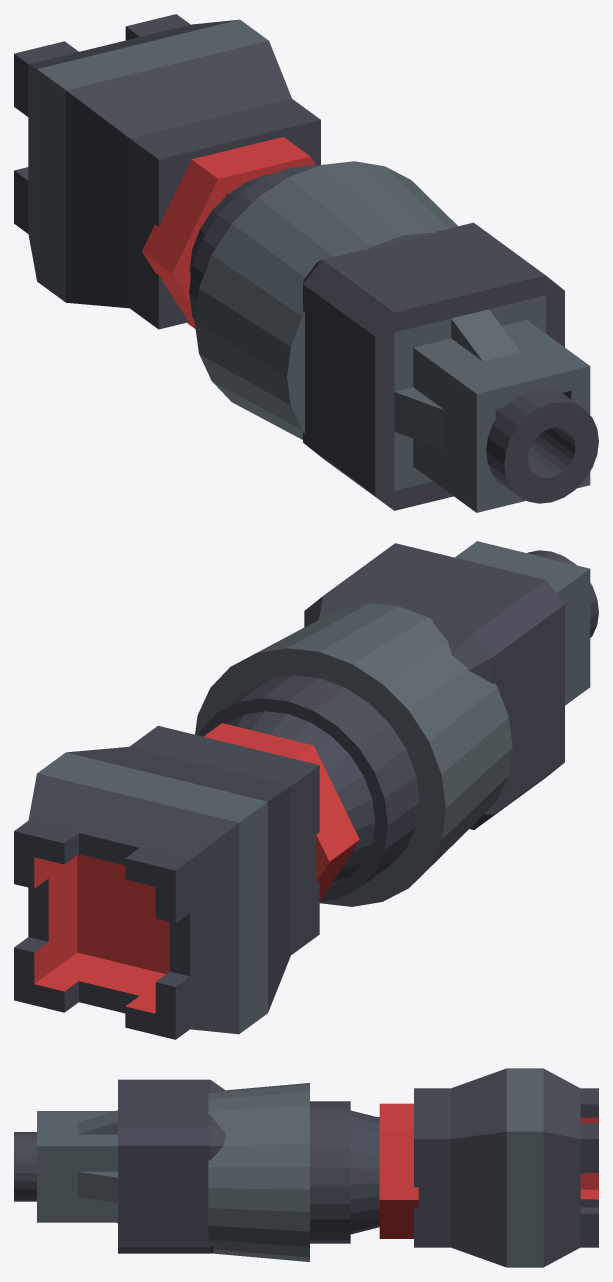
File: Blaster.fbx
3 renders of one model, top to bottom at view 1: azimuth 30°, elevation 25°; view 2: azimuth 150°, elevation 25°; view 3: azimuth 270°, elevation 25°, orthographic. The views are drawn at different scales.
Parts seen in each view (by area): view 1: Blaster; view 2: Blaster; view 3: Blaster.
Part boxes in pixels (x1,y1,x2,y2): Blaster: (14, 14, 598, 512); Blaster: (14, 541, 598, 1039); Blaster: (14, 1068, 598, 1267).
Bounding box in the file's own units: 81 × 76.98 × 253.
